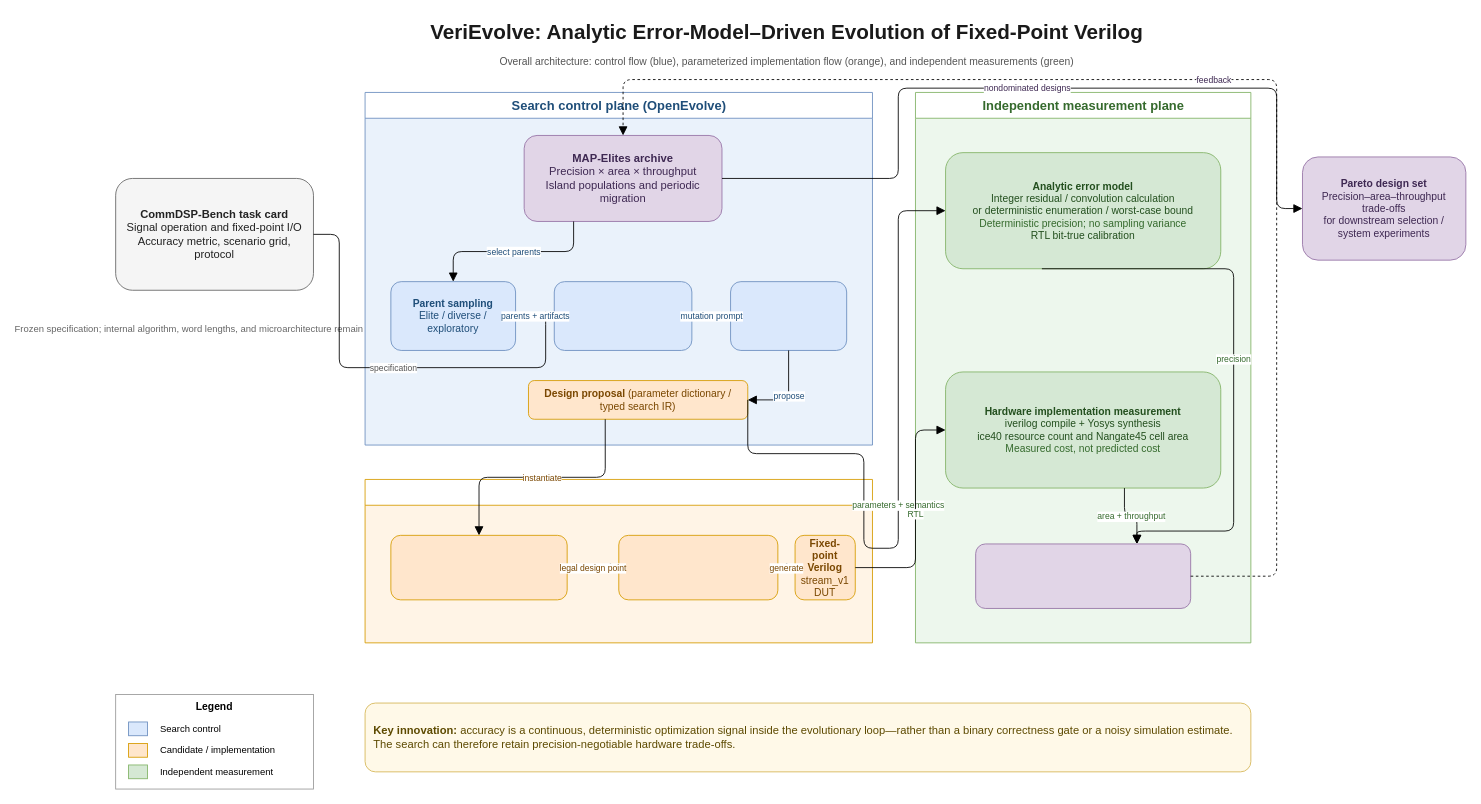
This 1481x804 diagram has some shape labels left out. Each missing label, with the box of its shape:
Deterministic lowering Template / IR → synthesizable RTL: (618, 534, 778, 600)
Evaluation result precision, area, throughput + diagnostics / artifacts: (975, 543, 1191, 608)
Implementation space Structure • quantization • microarchitecture: (390, 534, 567, 600)
LLM mutator Diff / full rewrite Structural jumps: (730, 281, 847, 350)
Parameterized implementation flow: (364, 479, 872, 643)
Prompt builder Task spec + parent metrics + artifacts: (553, 281, 692, 350)
